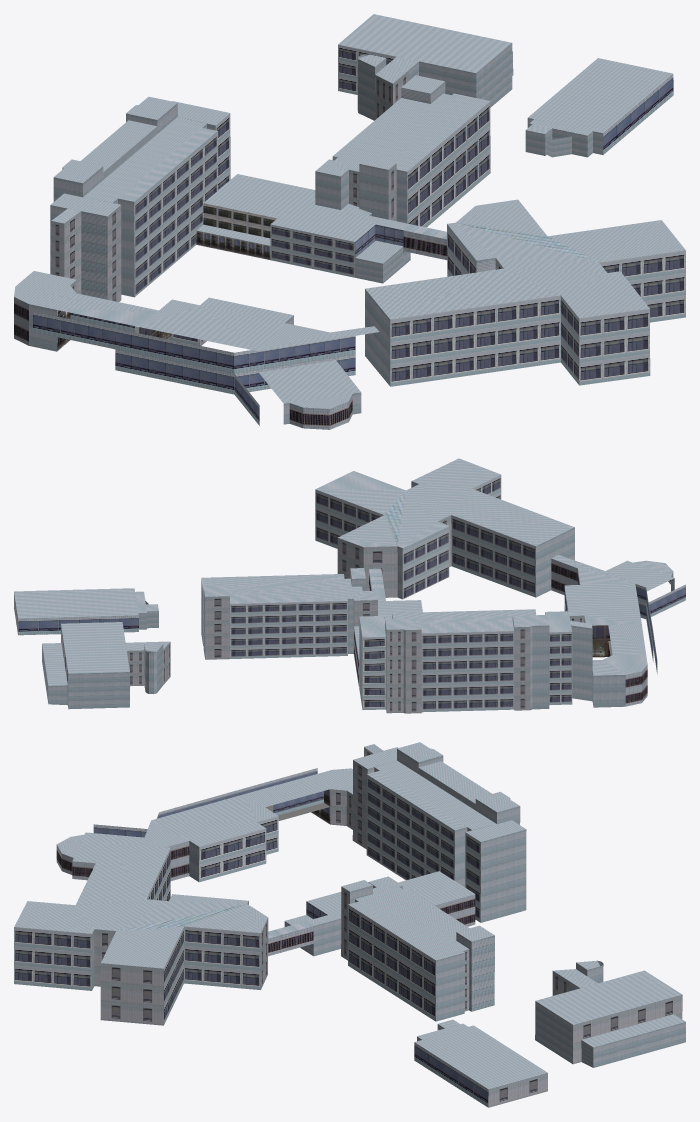
File: Information_Electronics_Engineering_Tool.obj
3 views of the same model, one above another, from view 1: azimuth 30°, elevation 25°; view 2: azimuth 150°, elevation 25°; view 3: azimuth 270°, elevation 25° (orthographic). The views are drawn at different scales.
Visible parts, largest first — view 1: VMtl1445, VMtl1443, VMtl1446, VMtl1456, VMtl1442, VMtl1448, VMtl1451, VMtl1454; view 2: VMtl1445, VMtl1443, VMtl1456, VMtl1446, VMtl1442, VMtl1449; view 3: VMtl1445, VMtl1443, VMtl1456, VMtl1446, VMtl1442.
Boxes of the visible parts, x1,y1,x2,y2 form: VMtl1445: [14, 14, 685, 424]; VMtl1443: [63, 44, 685, 386]; VMtl1446: [32, 74, 673, 425]; VMtl1456: [51, 70, 673, 345]; VMtl1442: [14, 230, 447, 429]; VMtl1448: [203, 203, 276, 238]; VMtl1451: [57, 230, 270, 351]; VMtl1454: [355, 224, 403, 257]; VMtl1445: [14, 458, 674, 713]; VMtl1443: [230, 475, 585, 712]; VMtl1456: [14, 515, 584, 713]; VMtl1446: [18, 584, 685, 674]; VMtl1442: [354, 558, 673, 706]; VMtl1449: [592, 625, 610, 657]; VMtl1445: [14, 742, 685, 1089]; VMtl1443: [14, 774, 480, 1025]; VMtl1456: [94, 747, 682, 1107]; VMtl1446: [93, 768, 488, 1107]; VMtl1442: [56, 841, 475, 956].
Bounding box in the file's own units: 258 × 37.32 × 238.
10 materials, 9 textured.
